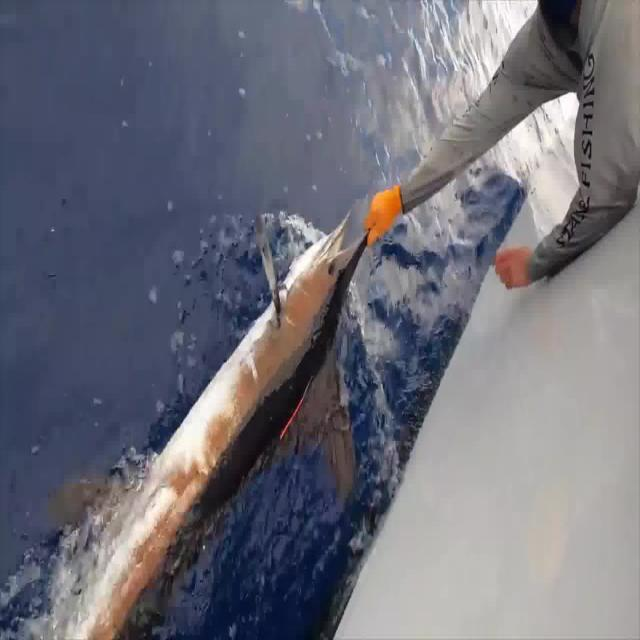White Marlin: (24, 201, 372, 640)
